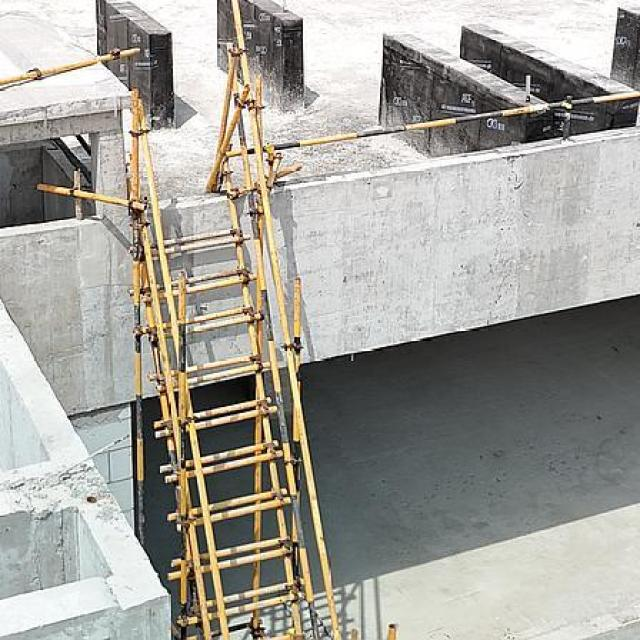edge_guardrail: (225, 90, 640, 158)
